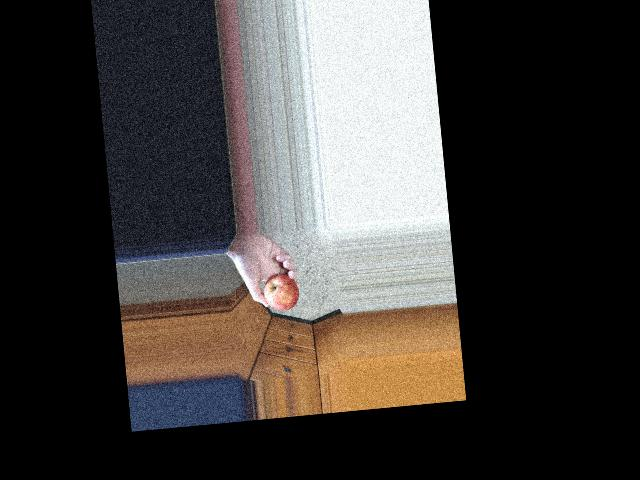apple: (255, 262, 300, 313)
